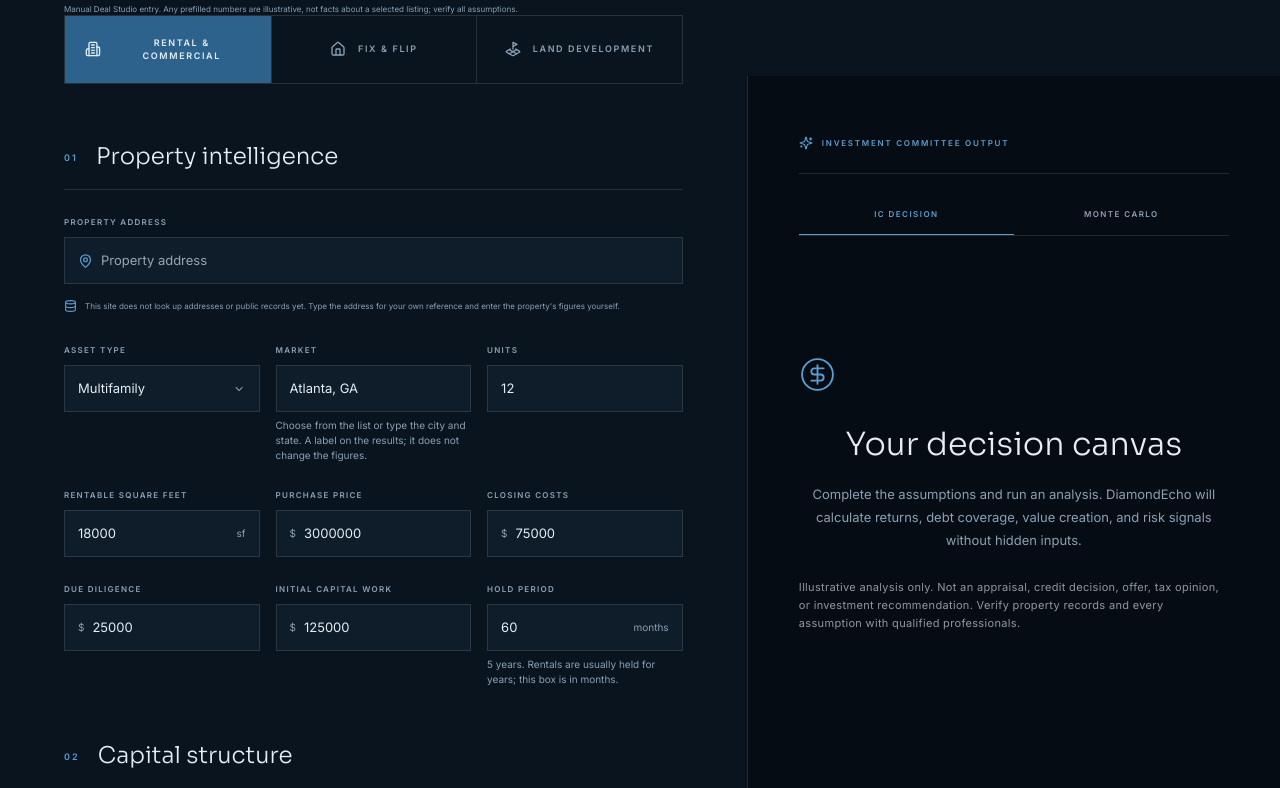
Test: item 4: the market box never picks a market by itself › one letter stays one letter, the list closes when the box is left, and the run says it is not a market
(page scrolled)
Step 1. Replace the text in the 3rd dropdown with "A" → (373, 389), box [290,367,457,410]
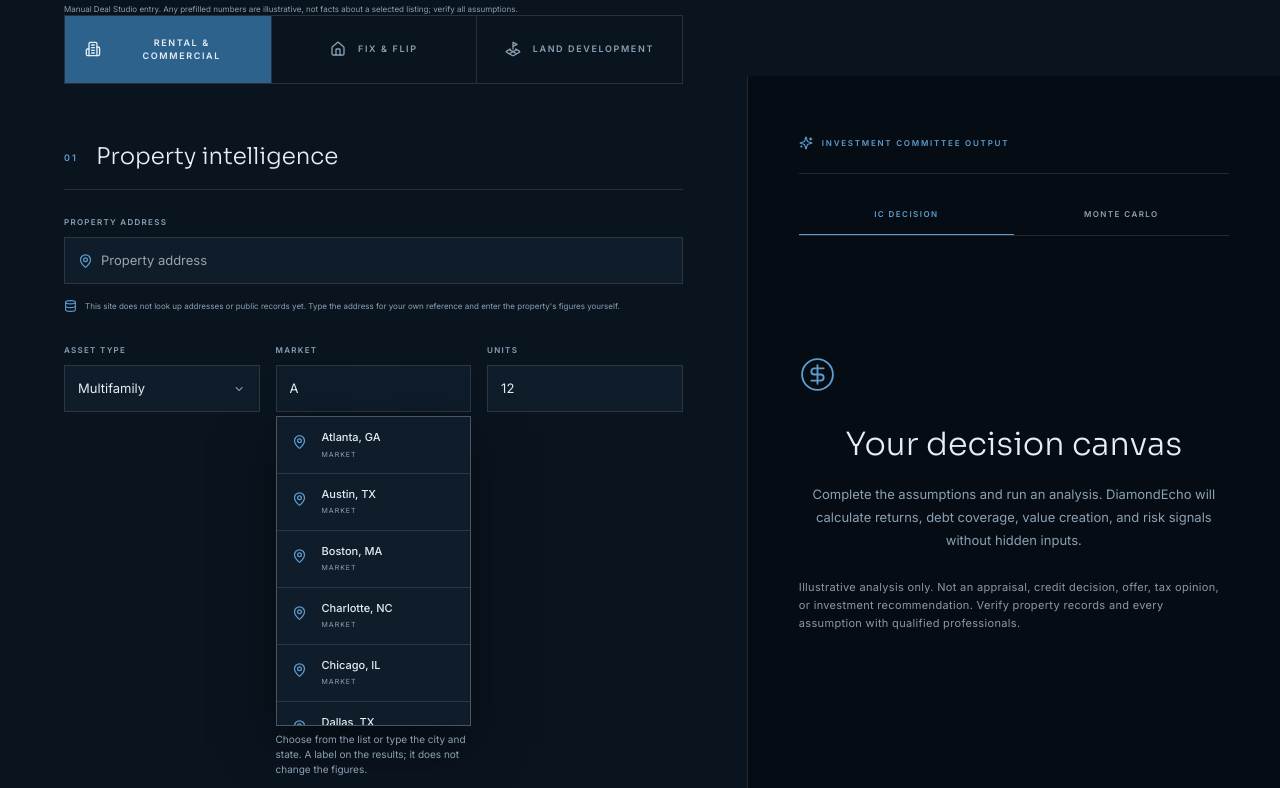
Step 2. Leave the 3rd dropdown, box [290,367,457,410]
(page scrolled)
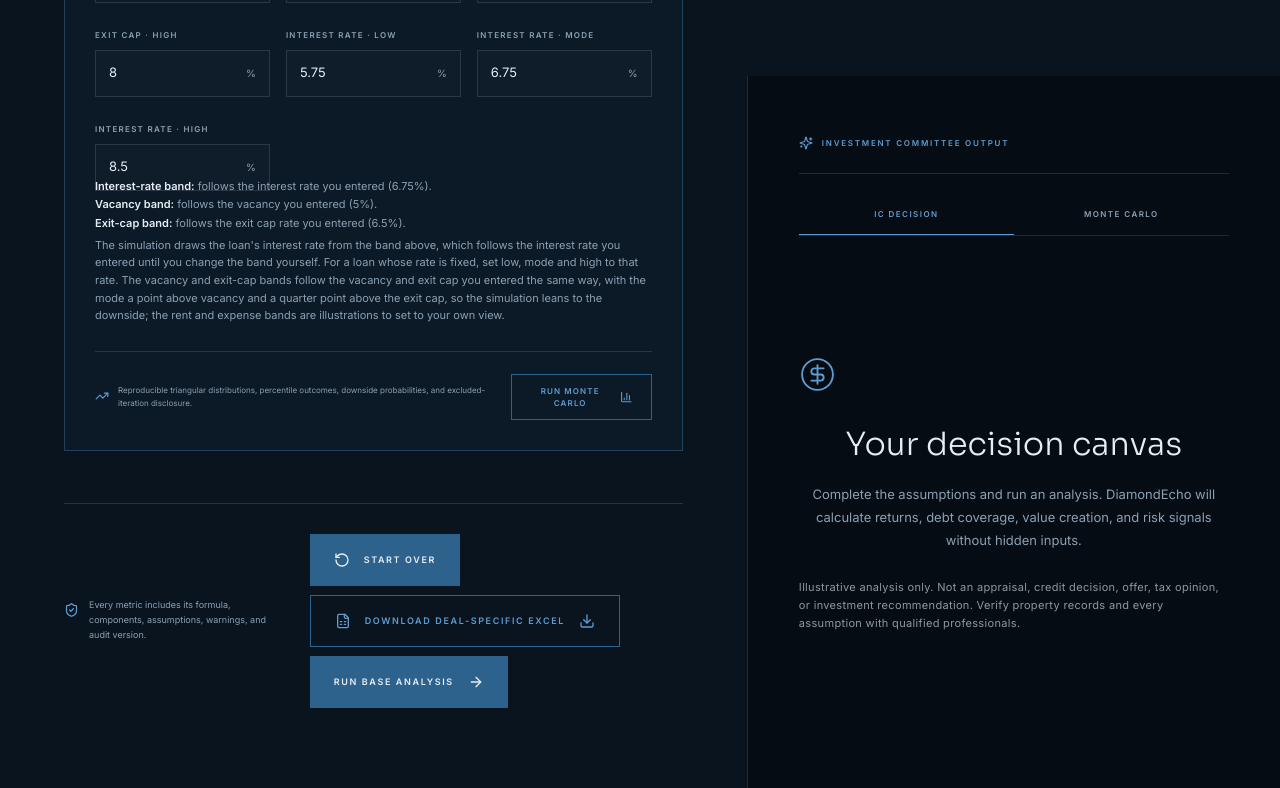
Check: the list with class "studio-suggestions" is gone
Step 3. Click the button "Run base analysis" → (409, 682), box [310,656,508,708]
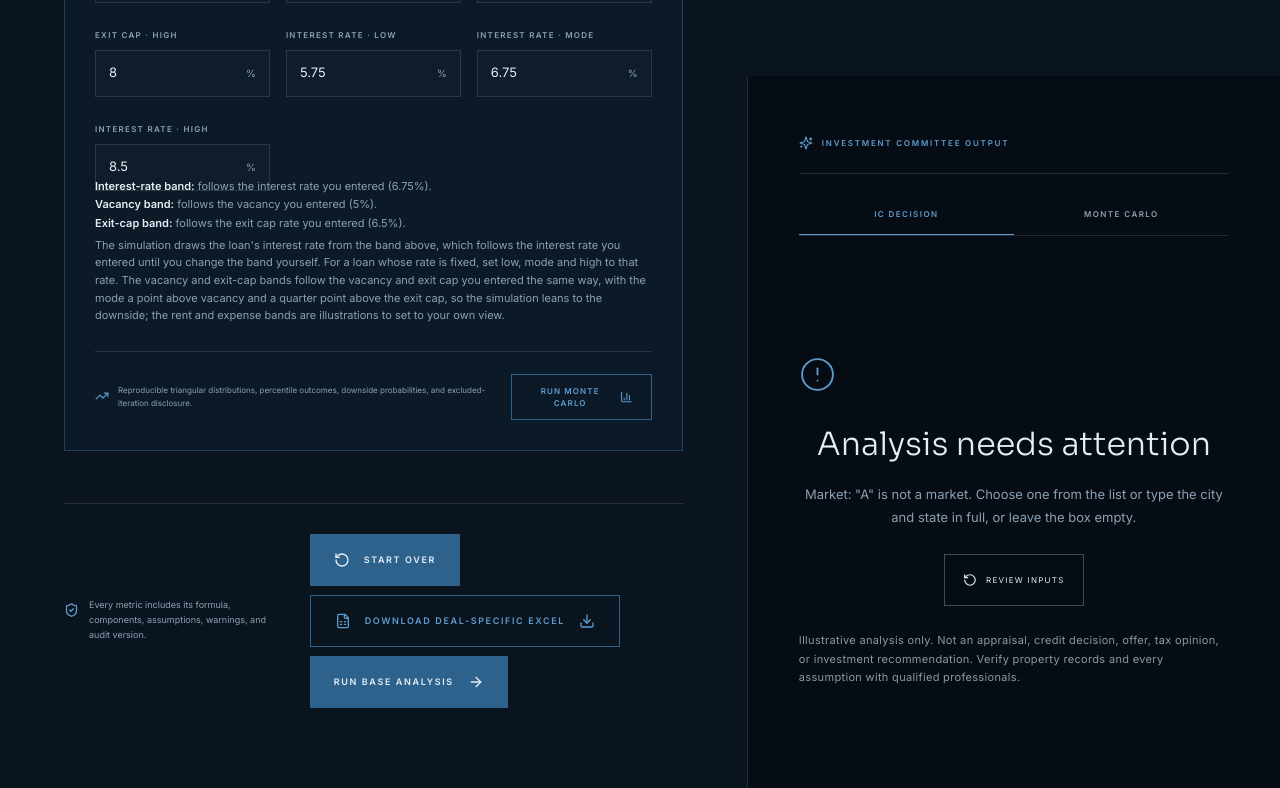
Check: the text "Market: \"A\" is not a market. Choose one from the list or type the city and state in full, or leave the box empty." is shown, box [805,486,1223,525]
